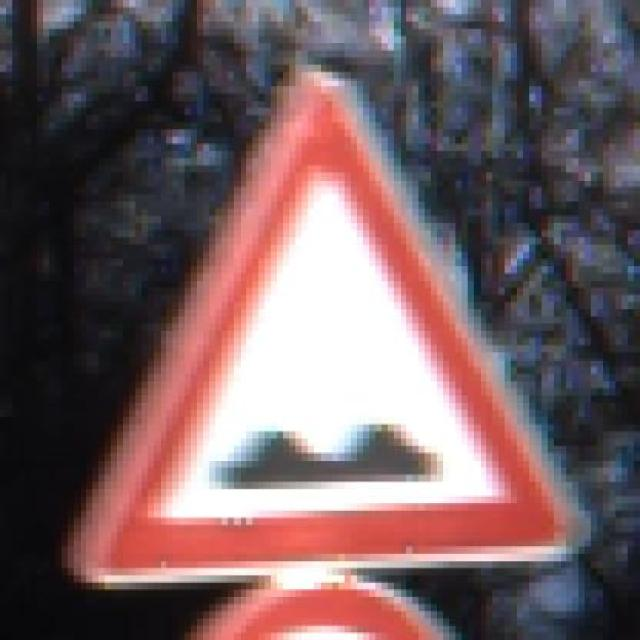Uneven Road: (55, 58, 591, 582)
